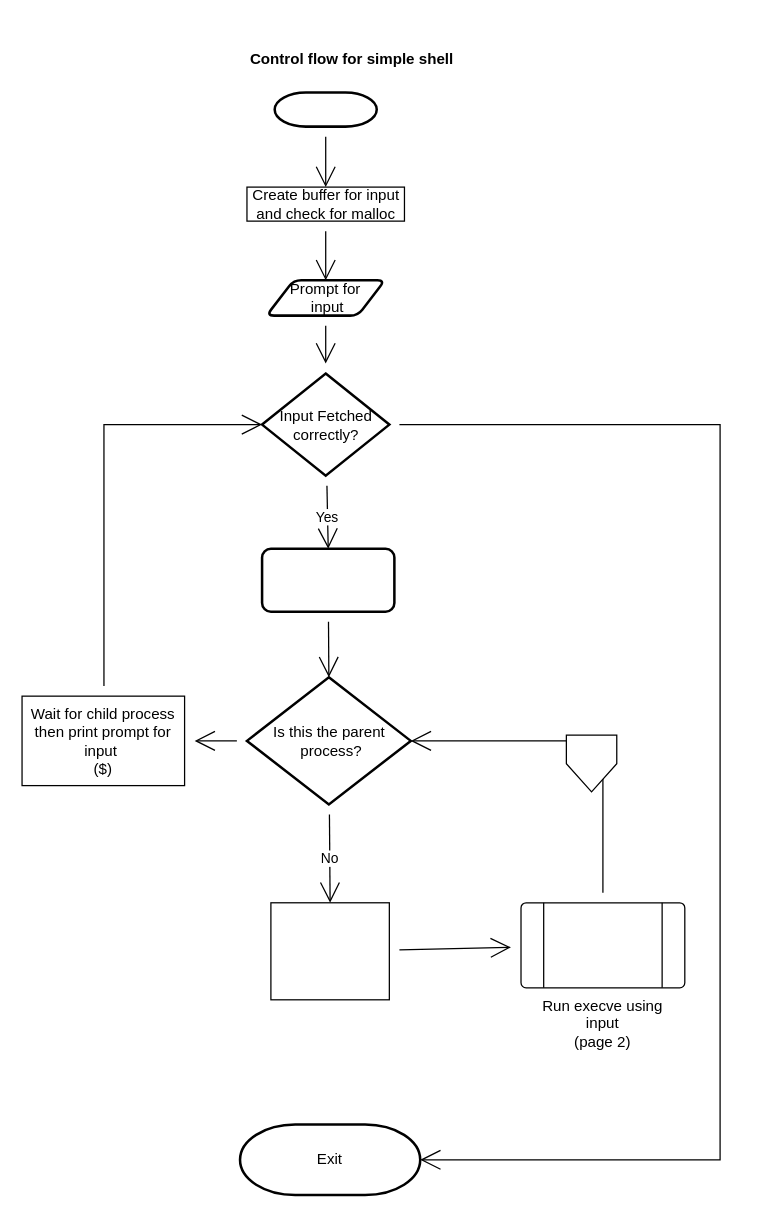
Image size: 762x1217. Some labels were removed from this diagram. Here are the shapes that lost their labels. From the top down, the centre of each, then its label:
At point 325,109: "start".
At point 327,579: "Fork()".
At point 329,951: "Add null terminator to user input".
